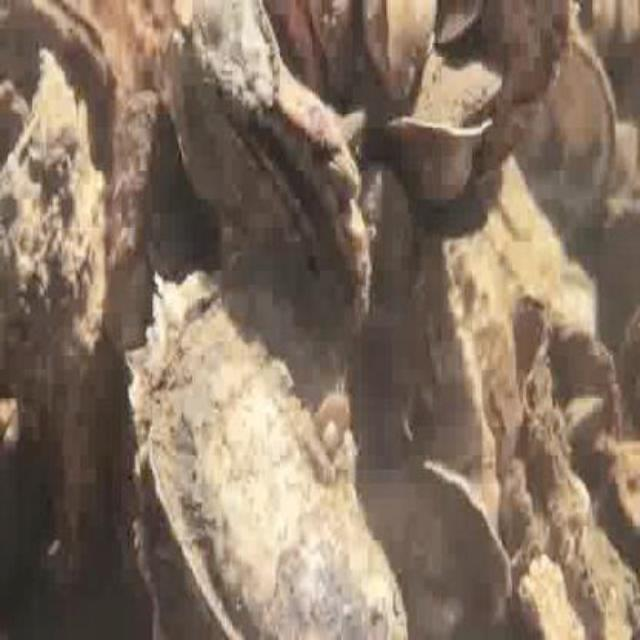Oyster-Closed: (126, 257, 410, 638), (0, 57, 110, 407), (103, 89, 219, 354), (0, 0, 124, 203), (432, 464, 516, 612), (550, 30, 616, 203), (191, 0, 282, 105), (409, 36, 506, 126), (520, 557, 588, 638), (561, 393, 607, 468), (437, 0, 496, 41), (618, 439, 638, 532), (0, 401, 23, 472)
Oyster-Open: (170, 28, 371, 332), (269, 0, 367, 111), (362, 0, 436, 85)
